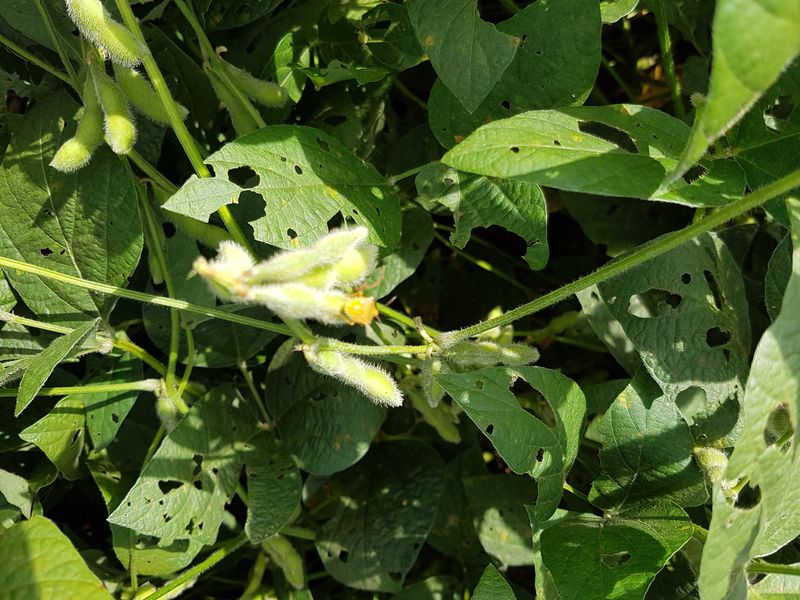Euschistus_heros_ninfa: (330, 282, 392, 335)
